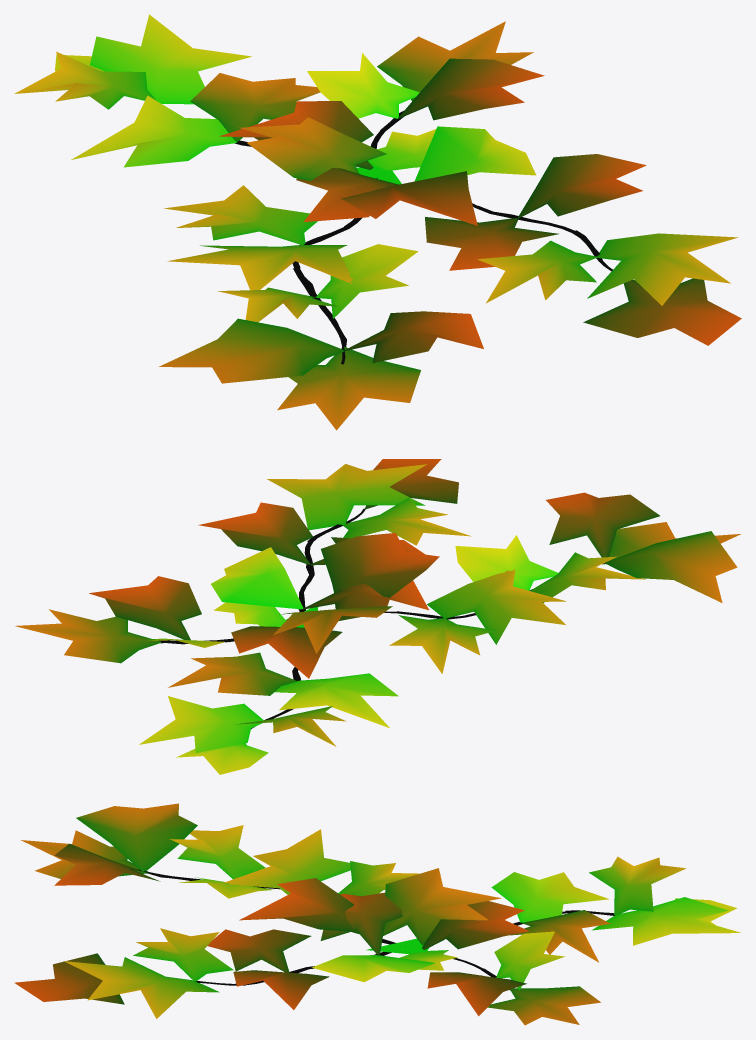
File: Mile-a-minute Vine_LOD0_Var5_sfqns.fbx
3 renders of one model, top to bottom at view 1: azimuth 30°, elevation 25°; view 2: azimuth 150°, elevation 25°; view 3: azimuth 270°, elevation 25°, orthographic. The views are drawn at different scales.
Visible parts, largest first — view 1: _c847_Var5_LOD0; view 2: _c847_Var5_LOD0; view 3: _c847_Var5_LOD0.
Boxes of the visible parts, bbox=[...] form: _c847_Var5_LOD0: bbox=[14, 14, 741, 430]; _c847_Var5_LOD0: bbox=[15, 459, 740, 774]; _c847_Var5_LOD0: bbox=[14, 803, 740, 1025].
Size of the model in its own units: 33.62 by 2.89 by 44.72.
